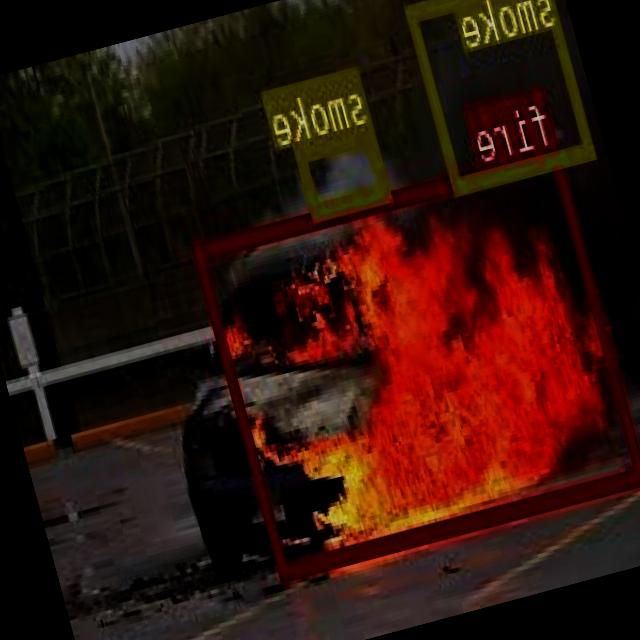fire: (191, 143, 640, 576)
smoke: (407, 0, 596, 191), (296, 122, 392, 215)
